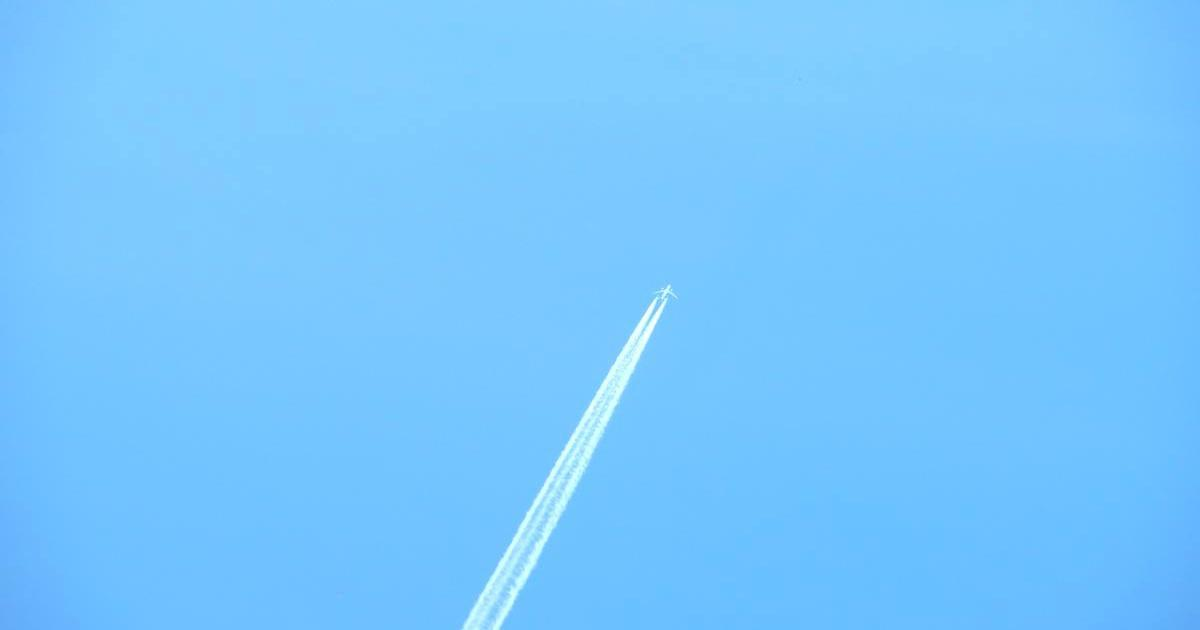Plane: (448, 224, 742, 624)
